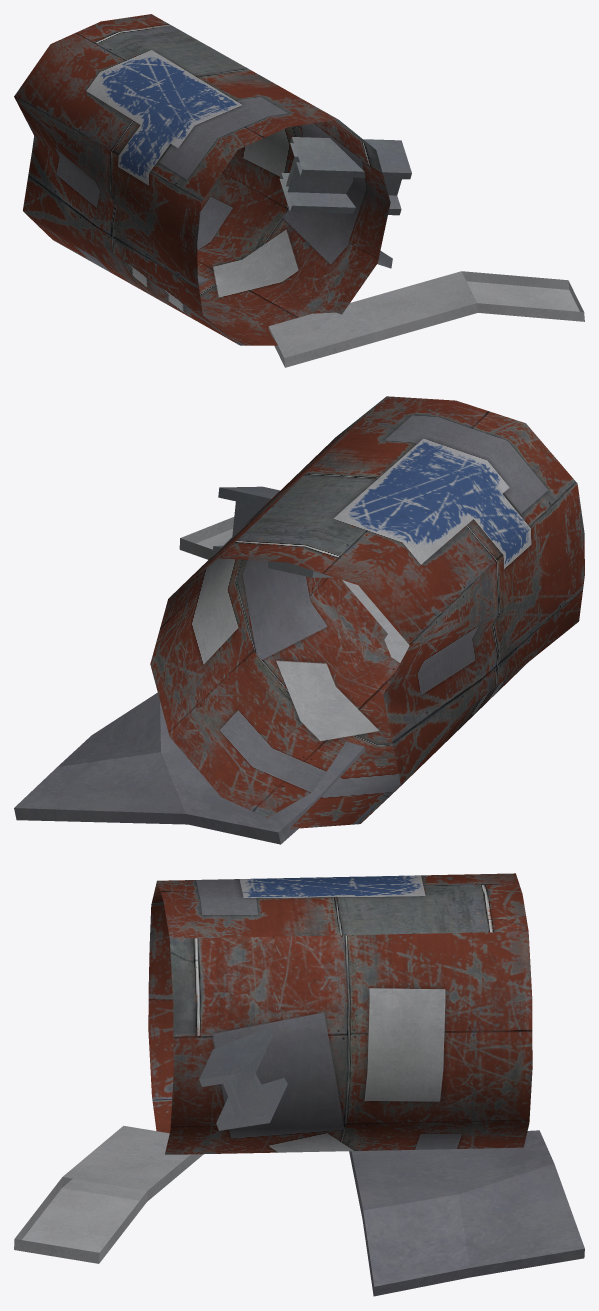
File: HCP14.fbx
The picture shows the model from 3 angles, top to bottom: view 1: azimuth 30°, elevation 25°; view 2: azimuth 150°, elevation 25°; view 3: azimuth 270°, elevation 25°; orthographic projection. The views are drawn at different scales.
Parts seen in each view (by area): view 1: fourteenD; view 2: fourteenD; view 3: fourteenD.
Boxes of the visible parts, x1,y1,x2,y2 form: fourteenD: (14,14,584,367); fourteenD: (14,396,584,844); fourteenD: (14,873,584,1296).
Size of the model in its own units: 5657 by 3778 by 6790.
1 material, 1 textured.
